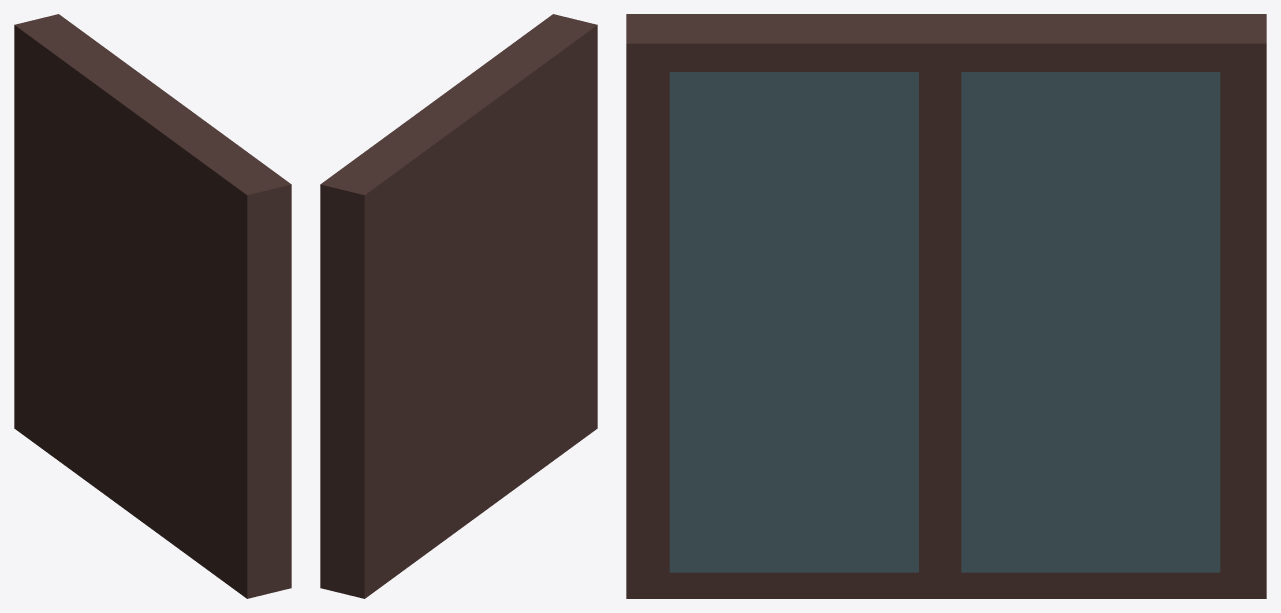
Rendered from fake_main_door.gltf.
3 views of the same model, side by side, from view 1: azimuth 30°, elevation 25°; view 2: azimuth 150°, elevation 25°; view 3: azimuth 270°, elevation 25° (orthographic). The views are drawn at different scales.
Visible parts, largest first — view 1: Cube; view 2: Cube; view 3: Cube.
Part boxes in pixels (x1,y1,x2,y2): Cube: [14, 14, 291, 598]; Cube: [320, 14, 597, 598]; Cube: [626, 14, 1266, 598].
Bounding box in the file's own units: 0.2827 × 2.45 × 2.56.
